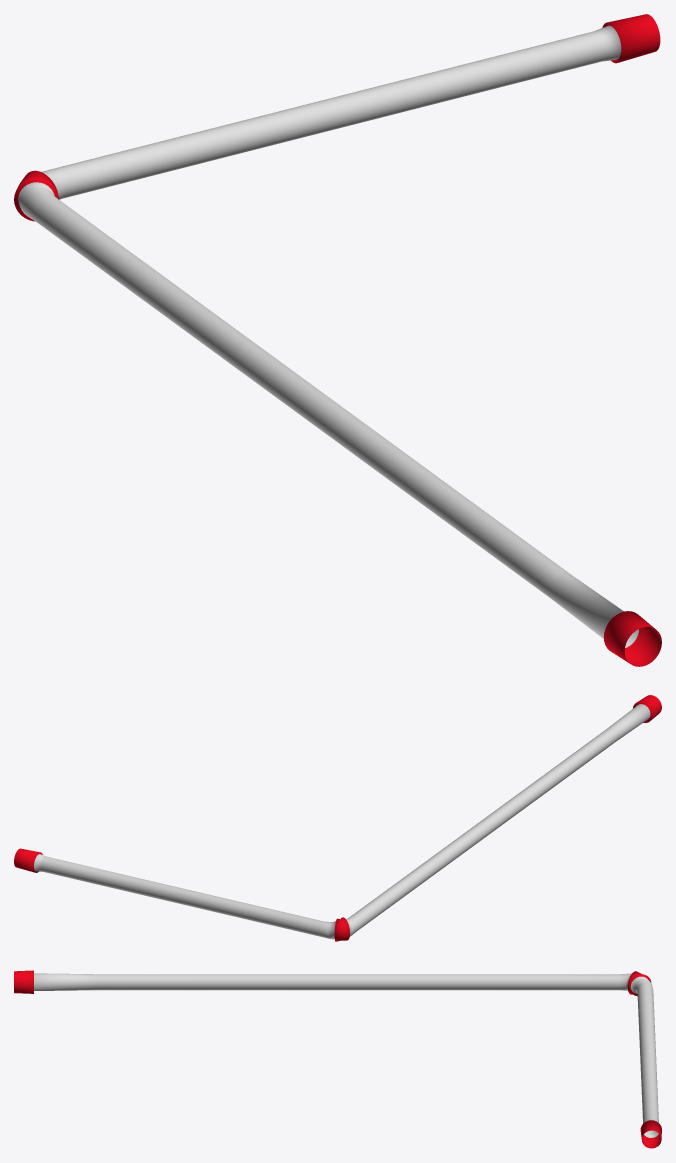
The model's file is Pipe.fbx.
3 renders of one model, top to bottom at view 1: azimuth 30°, elevation 25°; view 2: azimuth 150°, elevation 25°; view 3: azimuth 270°, elevation 25°, orthographic. The views are drawn at different scales.
Parts seen in each view (by area): view 1: Cylinder; view 2: Cylinder; view 3: Cylinder.
Boxes of the visible parts, x1,y1,x2,y2 form: Cylinder: (14,14,661,666); Cylinder: (14,695,661,941); Cylinder: (14,970,661,1148).
Size of the model in its own units: 1513 by 95.28 by 2552.
